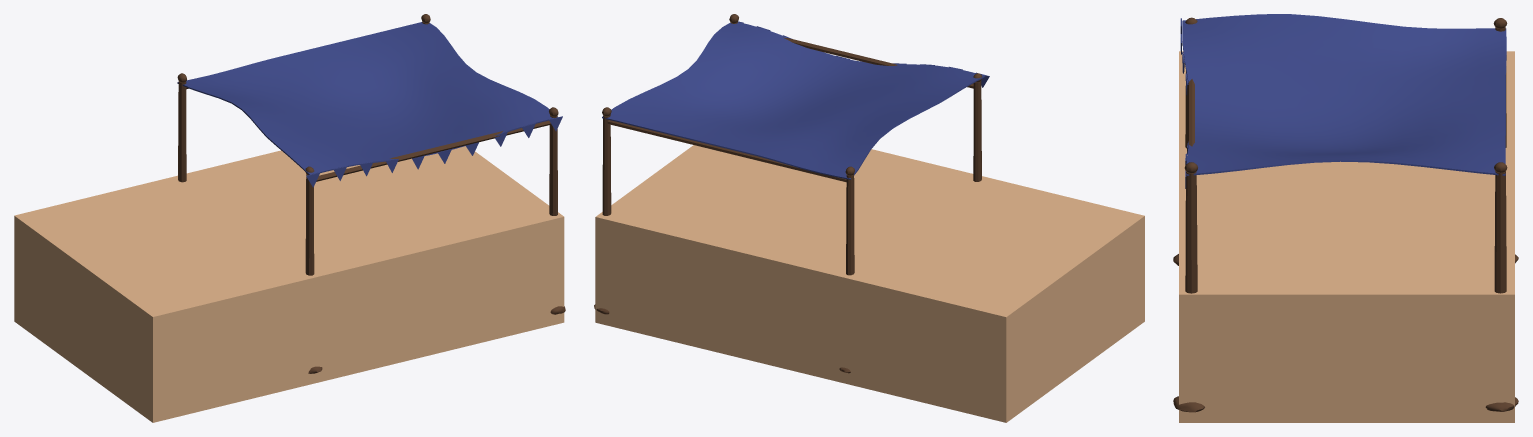
File: nomad_kitchen.fbx
3 renders of one model, left to right at view 1: azimuth 30°, elevation 25°; view 2: azimuth 150°, elevation 25°; view 3: azimuth 270°, elevation 25°, orthographic. The views are drawn at different scales.
Visible parts, largest first — view 1: NomadKitchen; view 2: NomadKitchen; view 3: NomadKitchen.
Part boxes in pixels (x1,y1,x2,y2): NomadKitchen: (14,14,565,422); NomadKitchen: (594,14,1144,422); NomadKitchen: (1173,14,1518,422).
Size of the model in its own units: 1811 by 890 by 1073.
